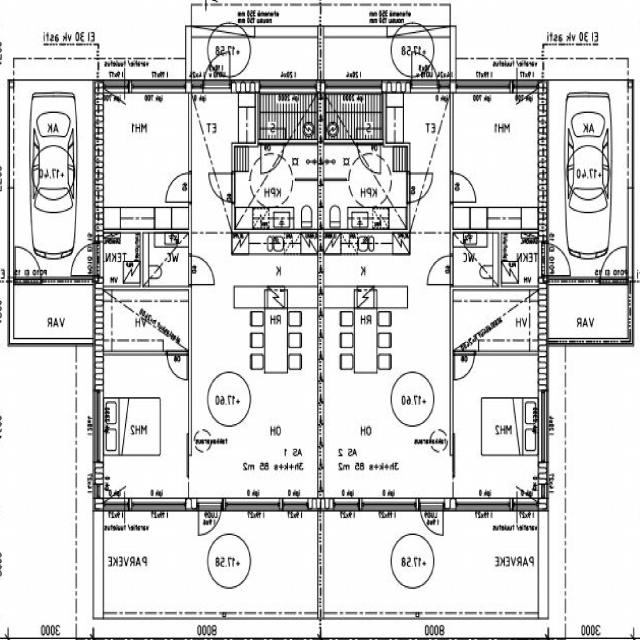door: (411, 46, 437, 93), (538, 243, 574, 276), (600, 246, 626, 284), (420, 498, 442, 540), (357, 139, 381, 174), (406, 174, 433, 202), (450, 173, 476, 202), (428, 256, 453, 284), (454, 351, 475, 381)
